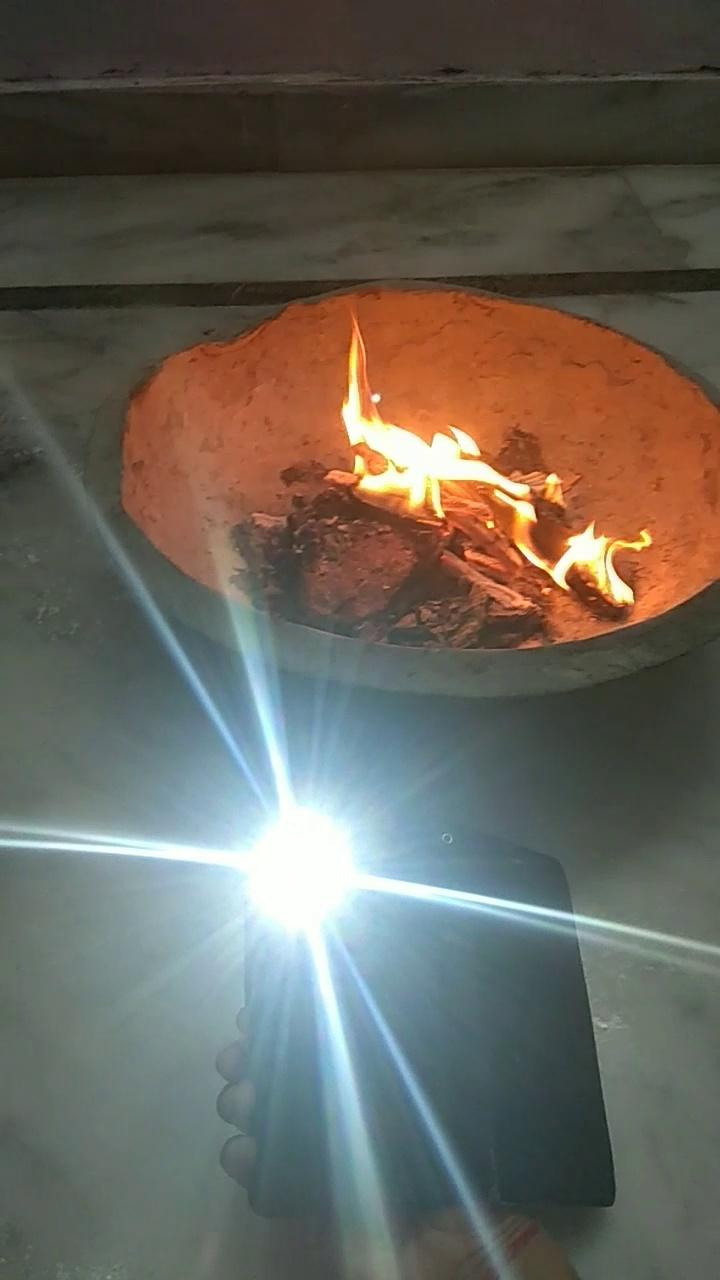fire: (327, 338, 492, 515), (505, 470, 632, 610)
